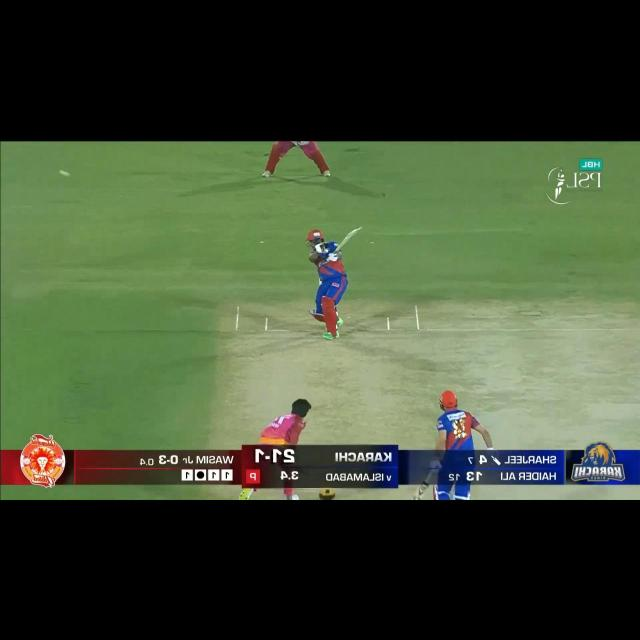bat: (333, 225, 364, 253), (413, 482, 427, 500)
toe: (350, 224, 365, 235), (412, 493, 427, 501)
